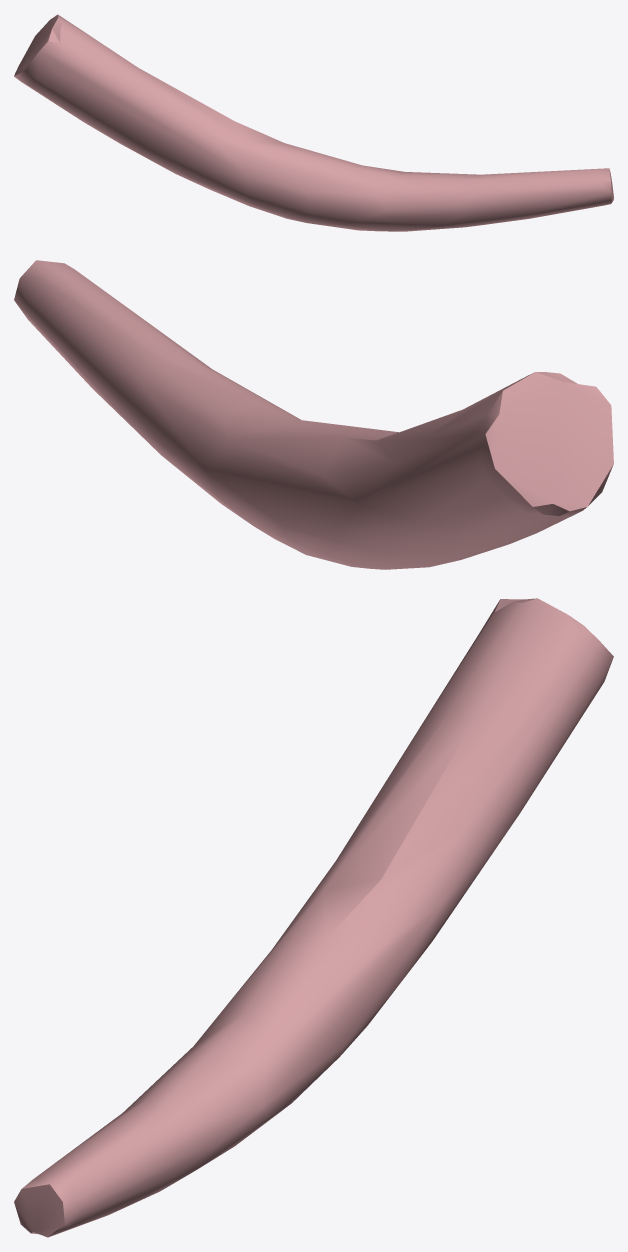
File: fma68231_fj6491.glb
The picture shows the model from 3 angles, top to bottom: view 1: azimuth 30°, elevation 25°; view 2: azimuth 150°, elevation 25°; view 3: azimuth 270°, elevation 25°; orthographic projection. The views are drawn at different scales.
Visible parts, largest first — view 1: FMA68231_FJ6491; view 2: FMA68231_FJ6491; view 3: FMA68231_FJ6491.
Boxes of the visible parts, left/top/right/bottom form: FMA68231_FJ6491: left=14, top=14, right=613, bottom=231; FMA68231_FJ6491: left=14, top=260, right=613, bottom=569; FMA68231_FJ6491: left=14, top=598, right=613, bottom=1237.
Size of the model in its own units: 0.0434 by 0.0185 by 0.0293.
